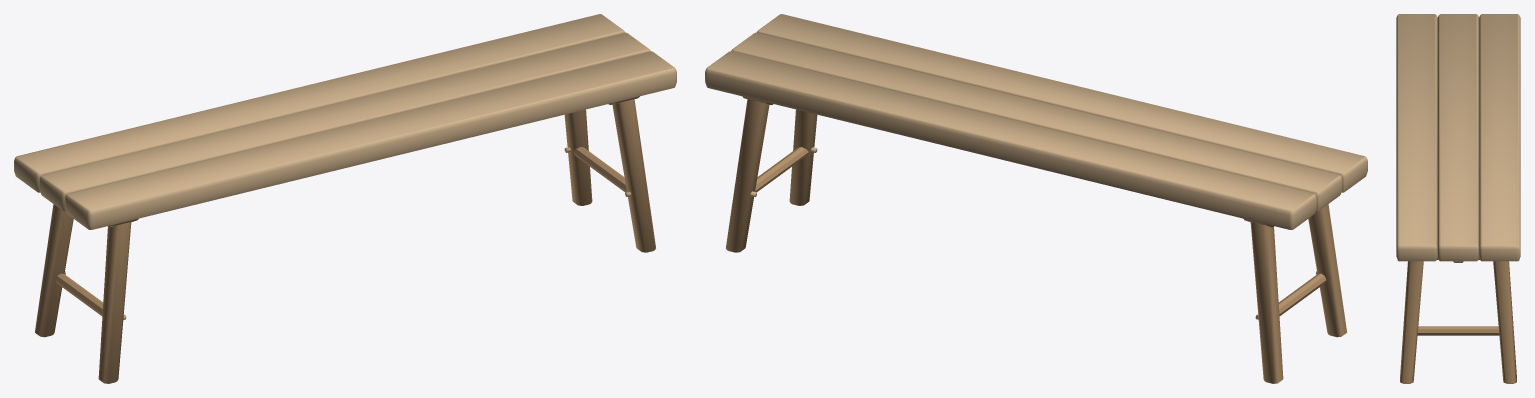
Rendered from benchDining.glb.
3 renders of one model, left to right at view 1: azimuth 30°, elevation 25°; view 2: azimuth 150°, elevation 25°; view 3: azimuth 270°, elevation 25°, orthographic. The views are drawn at different scales.
Parts seen in each view (by area): view 1: benchDining; view 2: benchDining; view 3: benchDining.
Part boxes in pixels (x1,y1,x2,y2): benchDining: (14, 14, 676, 383); benchDining: (705, 14, 1367, 383); benchDining: (1396, 14, 1520, 383).
Size of the model in its own units: 1.6 by 0.465 by 0.36.
